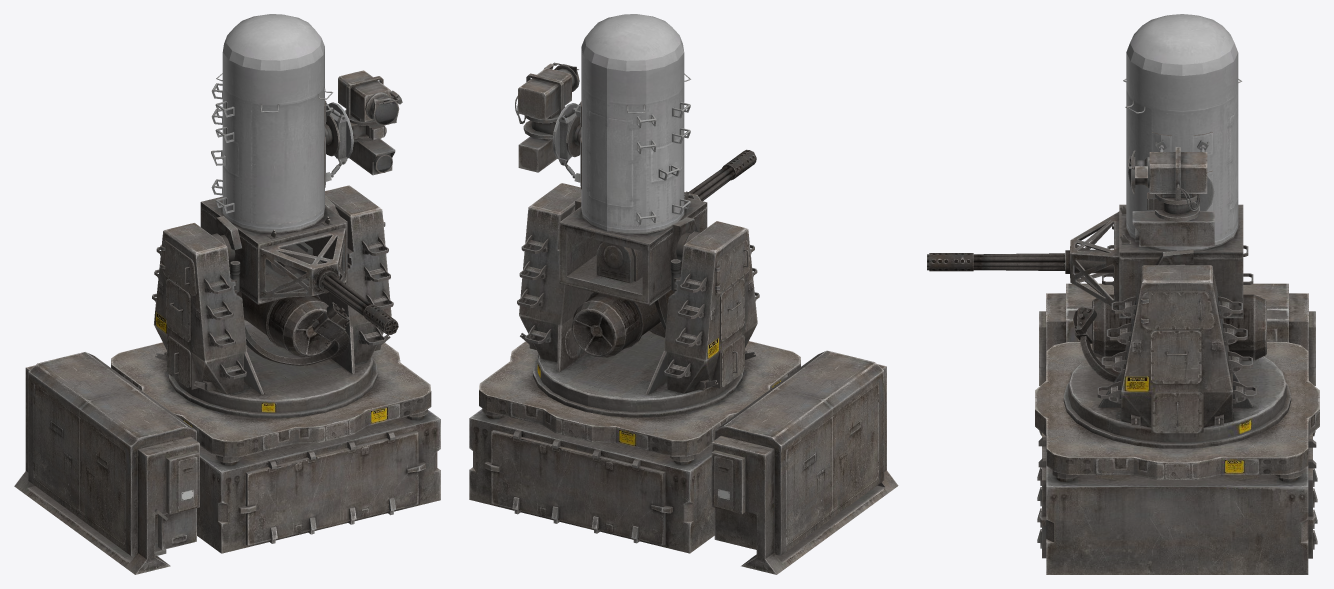
File: cram.glb
3 renders of one model, left to right at view 1: azimuth 30°, elevation 25°; view 2: azimuth 150°, elevation 25°; view 3: azimuth 270°, elevation 25°, orthographic. The views are drawn at different scales.
Visible parts, largest first — view 1: Object_4, Object_3, Object_2, Object_5; view 2: Object_4, Object_3, Object_2, Object_5; view 3: Object_4, Object_3, Object_2, Object_5.
Boxes of the visible parts, box(x1,y1,x2,y2) form: Object_4: box(14, 185, 440, 574); Object_3: box(211, 14, 398, 357); Object_2: box(156, 70, 402, 365); Object_5: box(89, 220, 393, 438); Object_4: box(469, 183, 898, 574); Object_3: box(552, 14, 756, 357); Object_2: box(515, 62, 707, 337); Object_5: box(517, 234, 874, 400); Object_4: box(1035, 224, 1319, 574); Object_3: box(927, 14, 1266, 360); Object_2: box(1070, 147, 1248, 382); Object_5: box(1066, 226, 1286, 432).
Size of the model in its own units: 5.77 by 8 by 5.73.
1 material, 1 textured.
